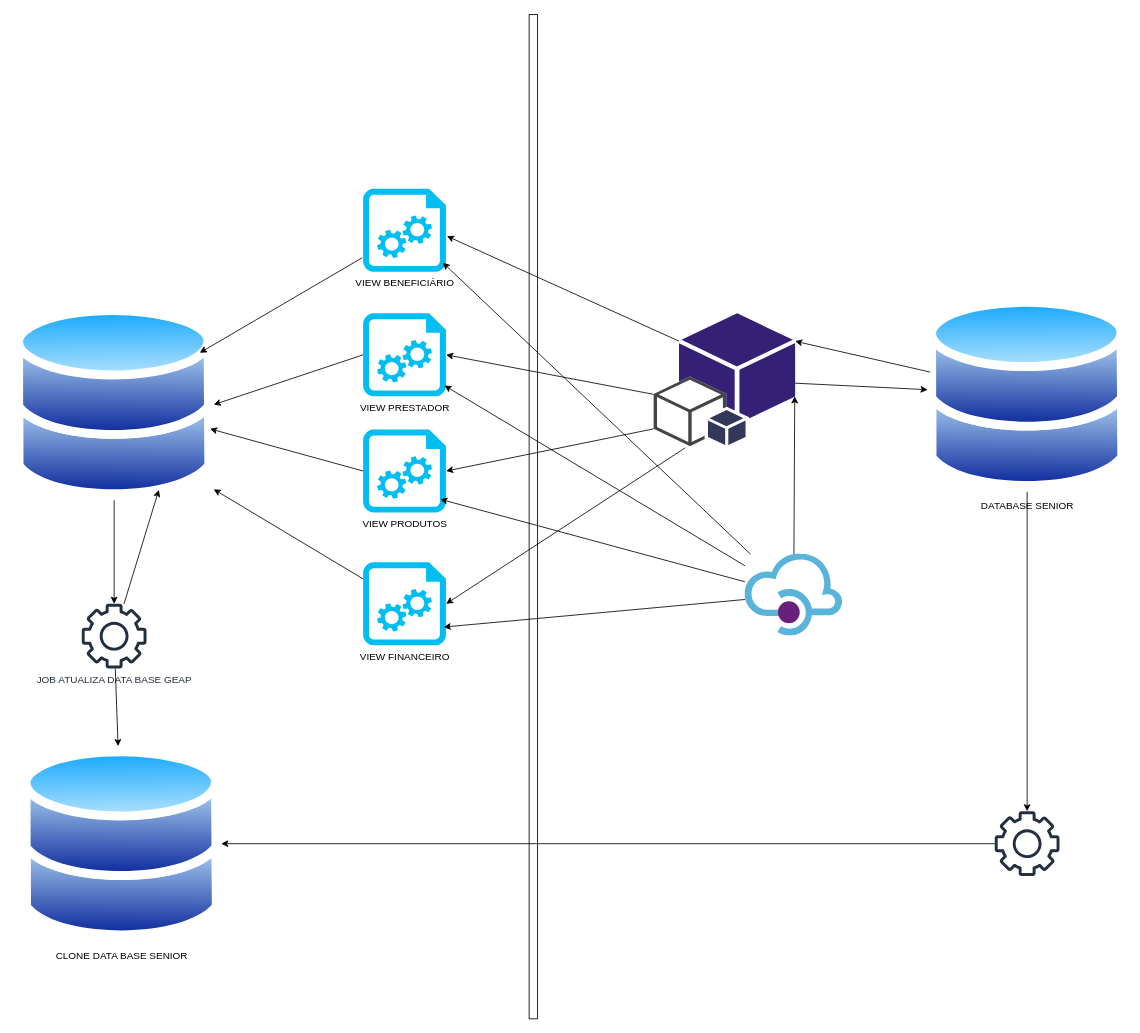
The diagram is 1140 pixels wide and 1033 high, and some of its shapes have lost their labels. The shapes that lost their labels are listed below. From the top down, each one's box as (x1, y1, x2, y2) in pixels, then its label:
(653, 312, 795, 446): ERP SENIOR
(14, 305, 213, 500): DATA BASE GEAP
(745, 554, 842, 636): WEB SERVICE
